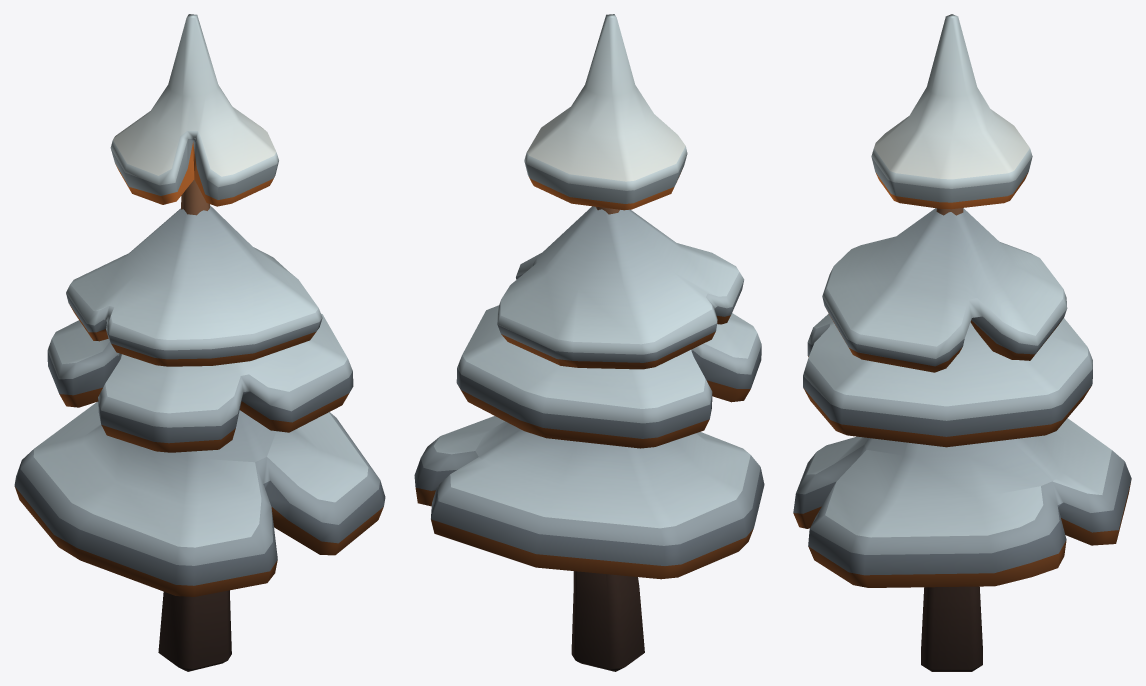
File: pine_tree_col2_08_snow.fbx
3 renders of one model, left to right at view 1: azimuth 30°, elevation 25°; view 2: azimuth 150°, elevation 25°; view 3: azimuth 270°, elevation 25°, orthographic.
Parts seen in each view (by area): view 1: pine_tree_col2_08_snow; view 2: pine_tree_col2_08_snow; view 3: pine_tree_col2_08_snow.
Part boxes in pixels (bbox=[...]): pine_tree_col2_08_snow: bbox=[14, 14, 385, 671]; pine_tree_col2_08_snow: bbox=[414, 14, 764, 671]; pine_tree_col2_08_snow: bbox=[793, 14, 1131, 671].
Size of the model in its own units: 436 by 879 by 418.
Materials: 1 (1 with a texture image).
